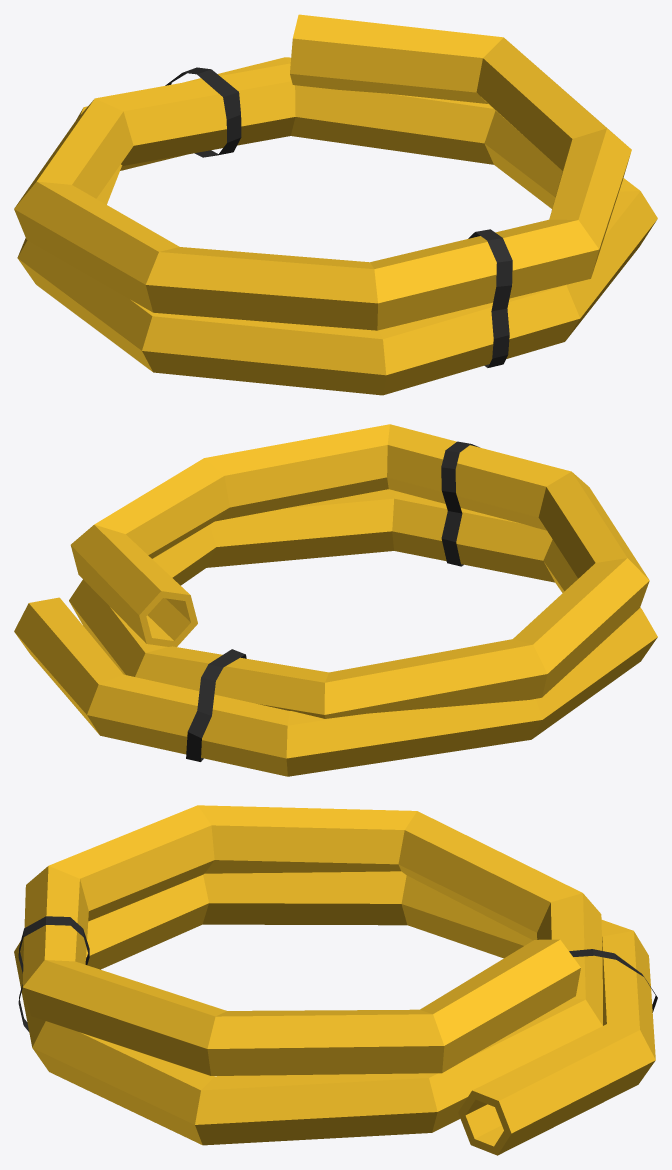
File: construction-pipe-roll.glb
3 views of the same model, one above another, from view 1: azimuth 30°, elevation 25°; view 2: azimuth 150°, elevation 25°; view 3: azimuth 270°, elevation 25° (orthographic). The views are drawn at different scales.
Visible parts, largest first — view 1: pipe-roll; view 2: pipe-roll; view 3: pipe-roll.
Part boxes in pixels (left/top/right/bottom): pipe-roll: left=14, top=14, right=657, bottom=395; pipe-roll: left=14, top=424, right=657, bottom=776; pipe-roll: left=14, top=805, right=657, bottom=1155.
Bounding box in the file's own units: 0.6913 × 0.1668 × 0.733.
